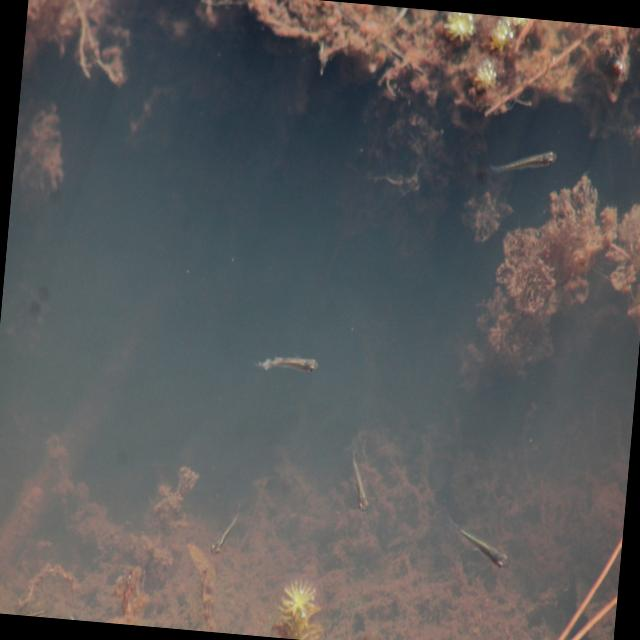Sivrisinek Baligi: (443, 512, 513, 574), (486, 138, 559, 188), (250, 346, 320, 380), (344, 445, 376, 517), (207, 506, 240, 562)
